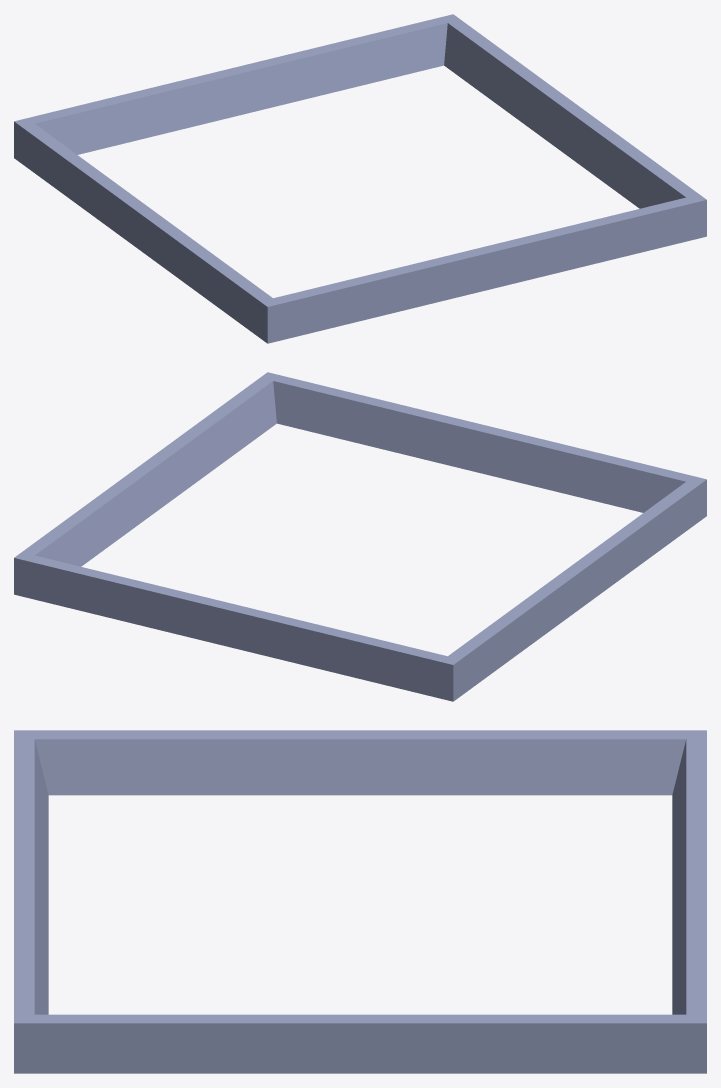
The model's file is road-square-barrier.glb.
3 views of the same model, one above another, from view 1: azimuth 30°, elevation 25°; view 2: azimuth 150°, elevation 25°; view 3: azimuth 270°, elevation 25° (orthographic). The views are drawn at different scales.
Visible parts, largest first — view 1: road-square-barrier; view 2: road-square-barrier; view 3: road-square-barrier.
Part boxes in pixels (box(x1,y1,x2,y2)): road-square-barrier: box(14, 14, 706, 343); road-square-barrier: box(14, 372, 706, 701); road-square-barrier: box(14, 730, 706, 1073).
Size of the model in its own units: 10 by 0.7996 by 10.
1 material, 1 textured.
